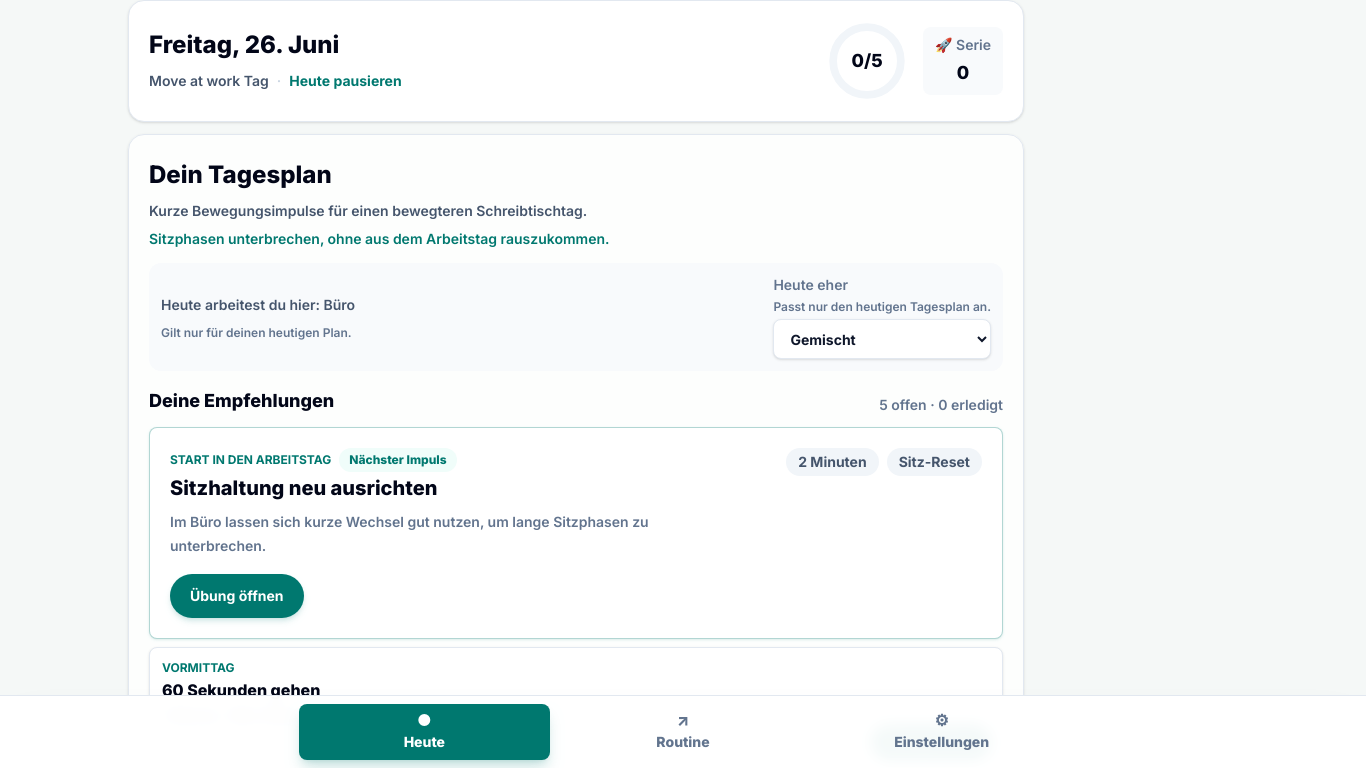
ResultScreen daily workday context helpers › navigates from the success dialog to the progress screen
Click the button "Übung öffnen": (237,596) [170,574,304,618]
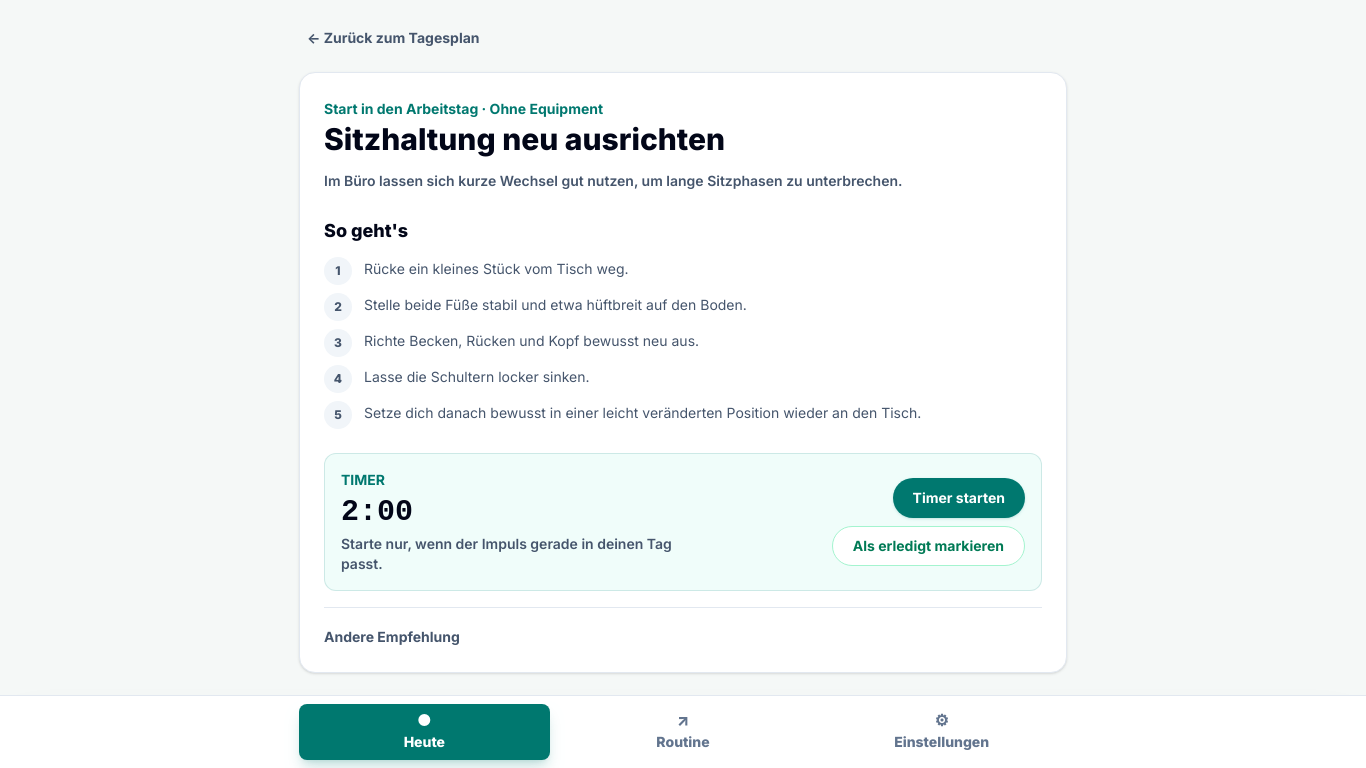
Click the button "Als erledigt markieren": (928,546) [832,526,1025,566]
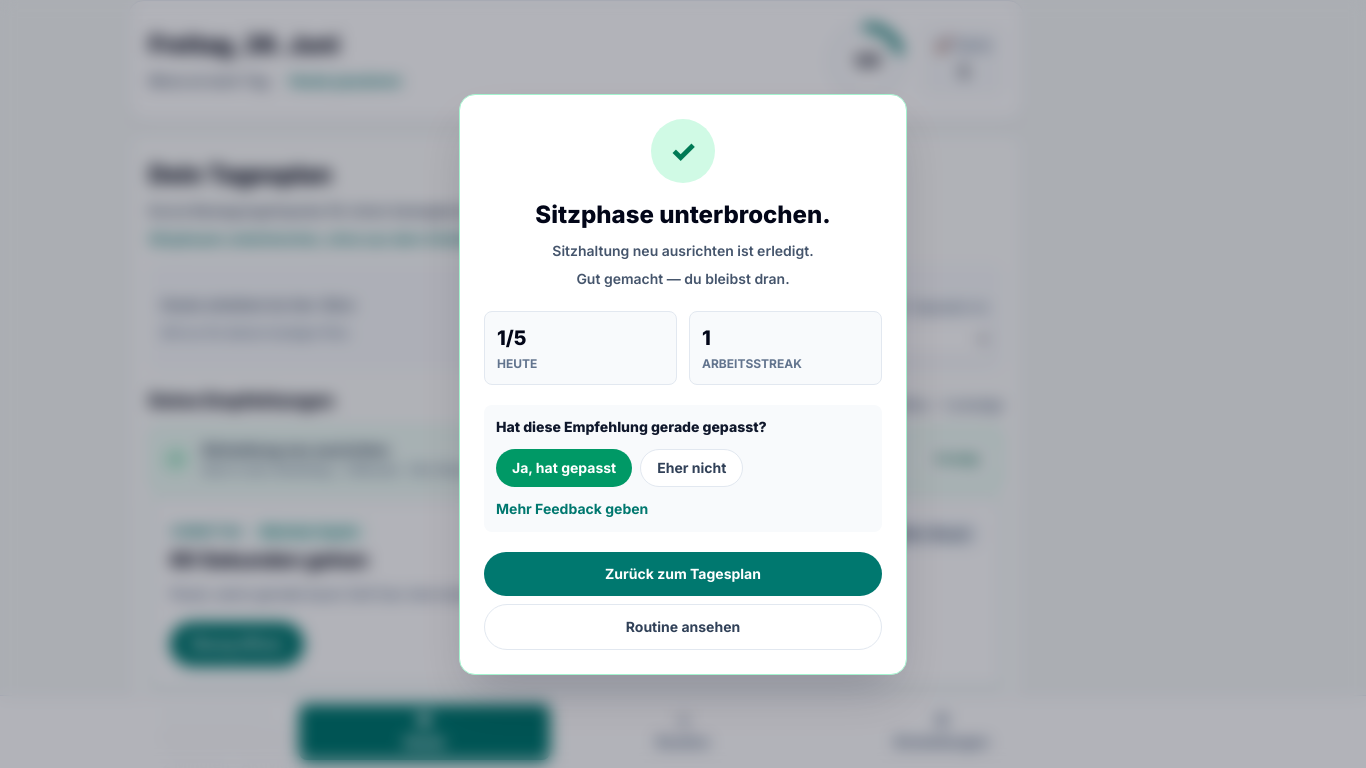
Check: the text "Sitzphase unterbrochen." is shown, box [535,200,831,228]
Click the button "Routine ansehen": (683,626) [484,604,882,650]
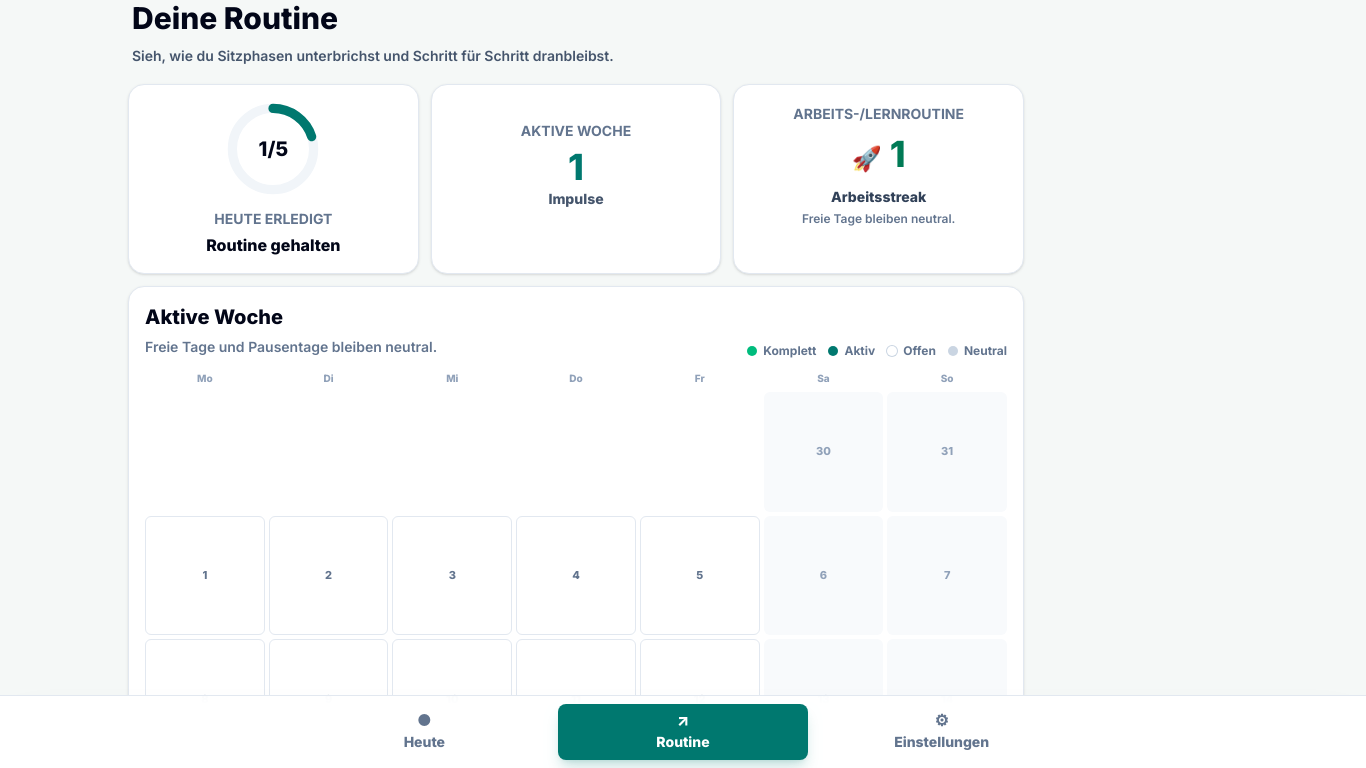
Check: the text "Deine Routine" is shown, box [132,0,338,36]
Check: the text "Heute erledigt" is shown, box [206,209,340,229]
Check: the text "Sitzphase unterbrochen." is gone
